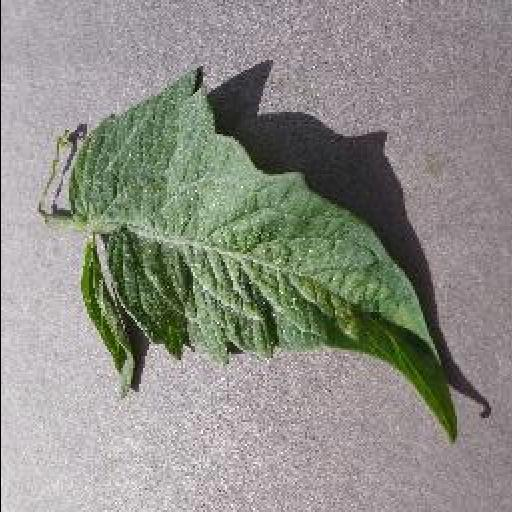disease_tomato: (66, 66, 460, 442)
